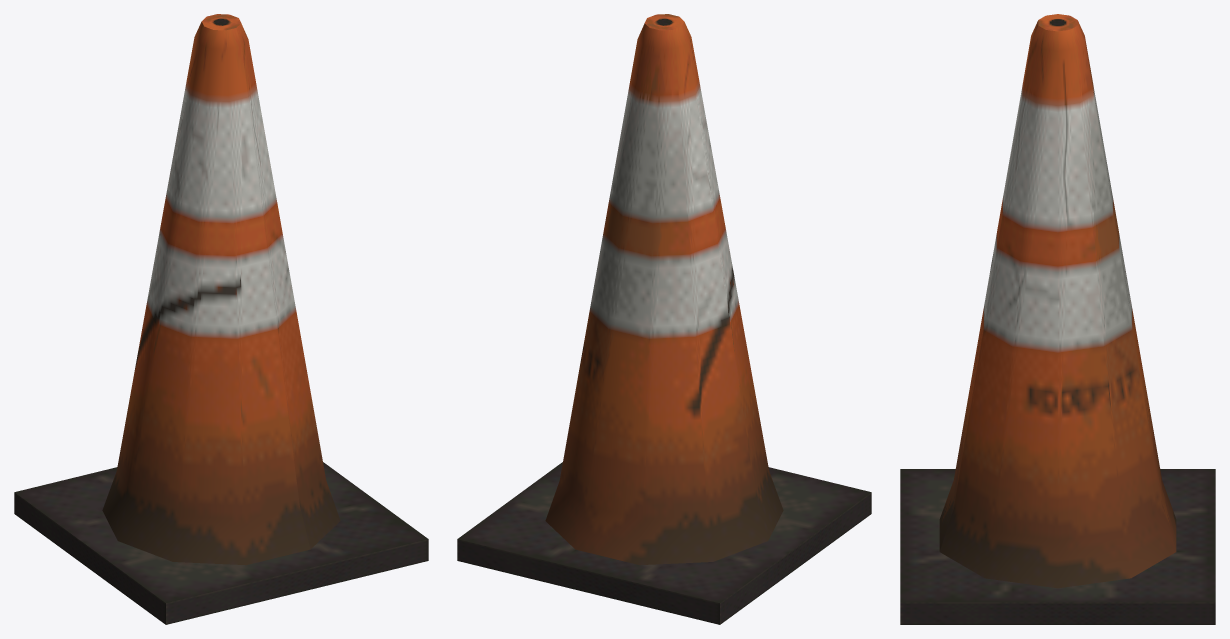
Rendered from traffic_cone.obj.
3 views of the same model, side by side, from view 1: azimuth 30°, elevation 25°; view 2: azimuth 150°, elevation 25°; view 3: azimuth 270°, elevation 25° (orthographic). The views are drawn at different scales.
Visible parts, largest first — view 1: traffic_cone; view 2: traffic_cone; view 3: traffic_cone.
Part boxes in pixels (bbox=[...]): traffic_cone: bbox=[14, 14, 428, 624]; traffic_cone: bbox=[457, 14, 871, 624]; traffic_cone: bbox=[900, 14, 1215, 624].
Bounding box in the file's own units: 0.38 × 0.712 × 0.38.
1 material, 1 textured.
